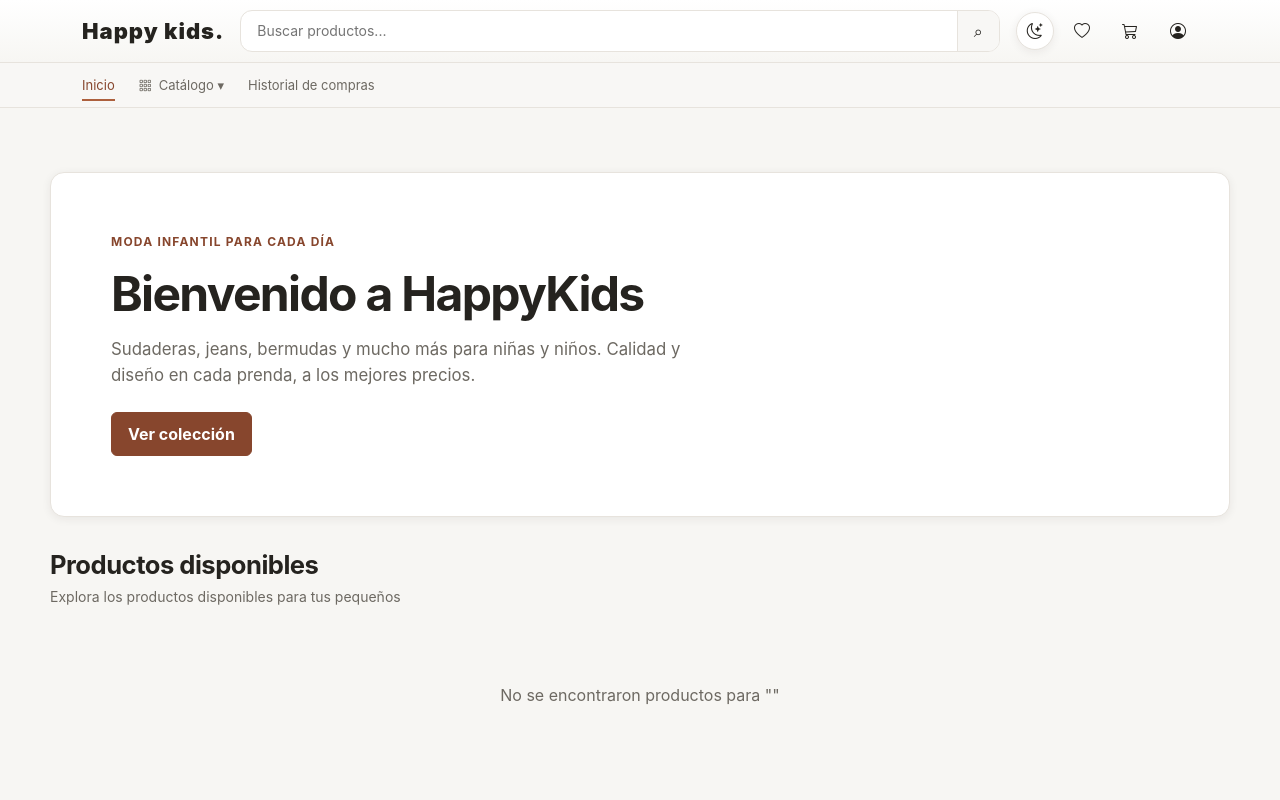
Test: Pruebas de caja negra - categorías › muestra las categorías disponibles en el menú del catálogo
Click the button with class "catalogo-nav-link" at (182, 85), box top-left (139, 69), bottom-right (224, 101)
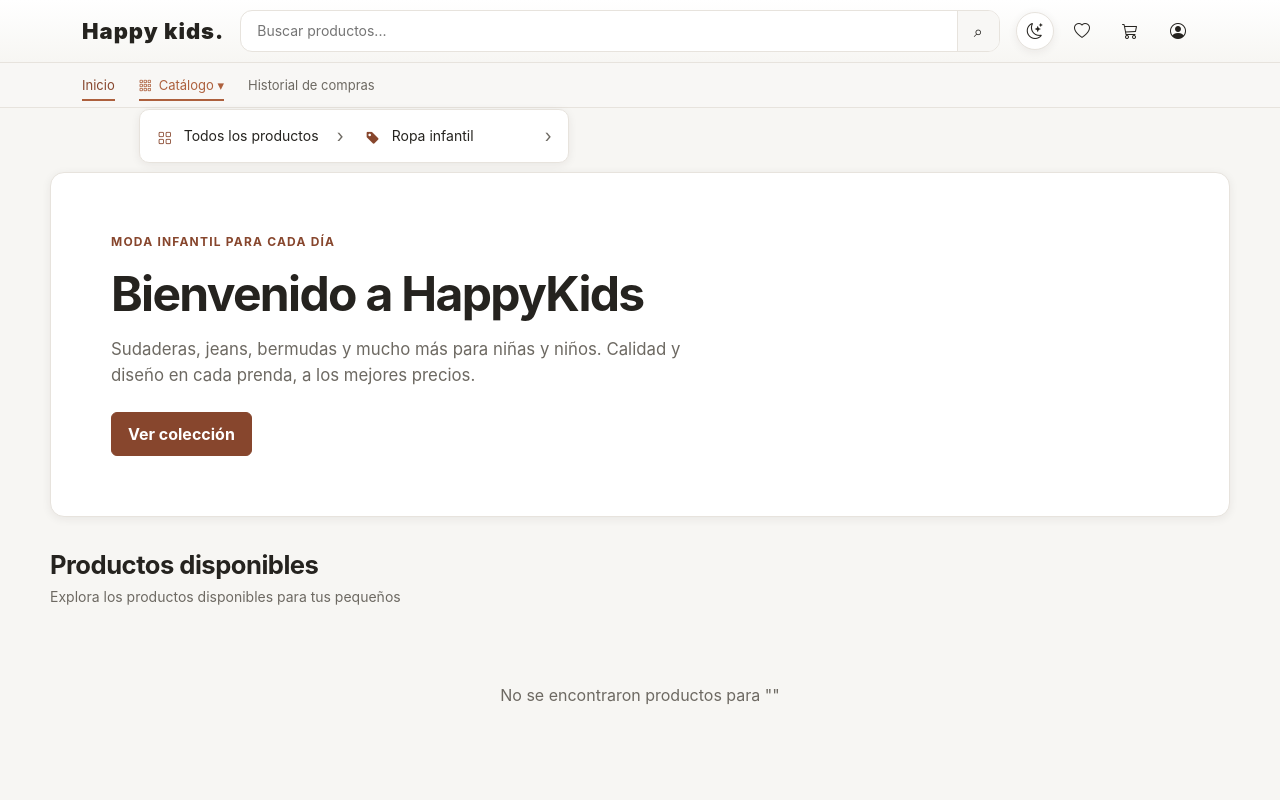
Result: the link "Ropa infantil ›" is shown at top-left (366, 125), bottom-right (552, 149)
